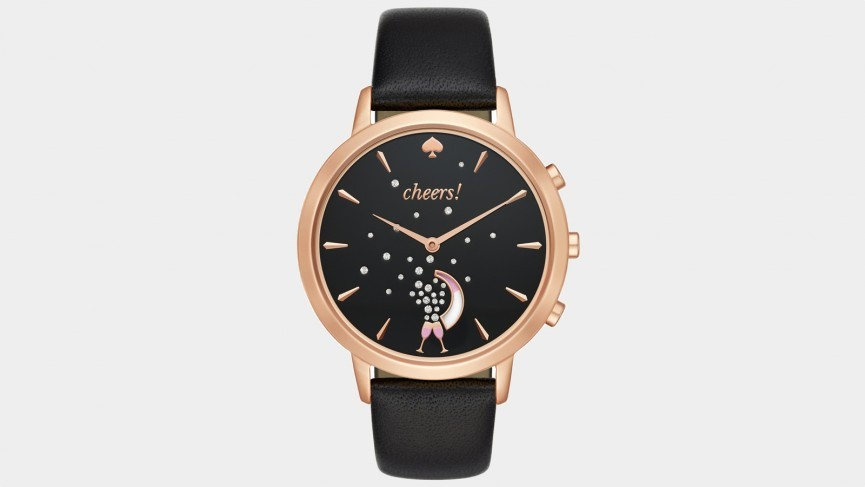clock: (297, 107, 569, 381)
